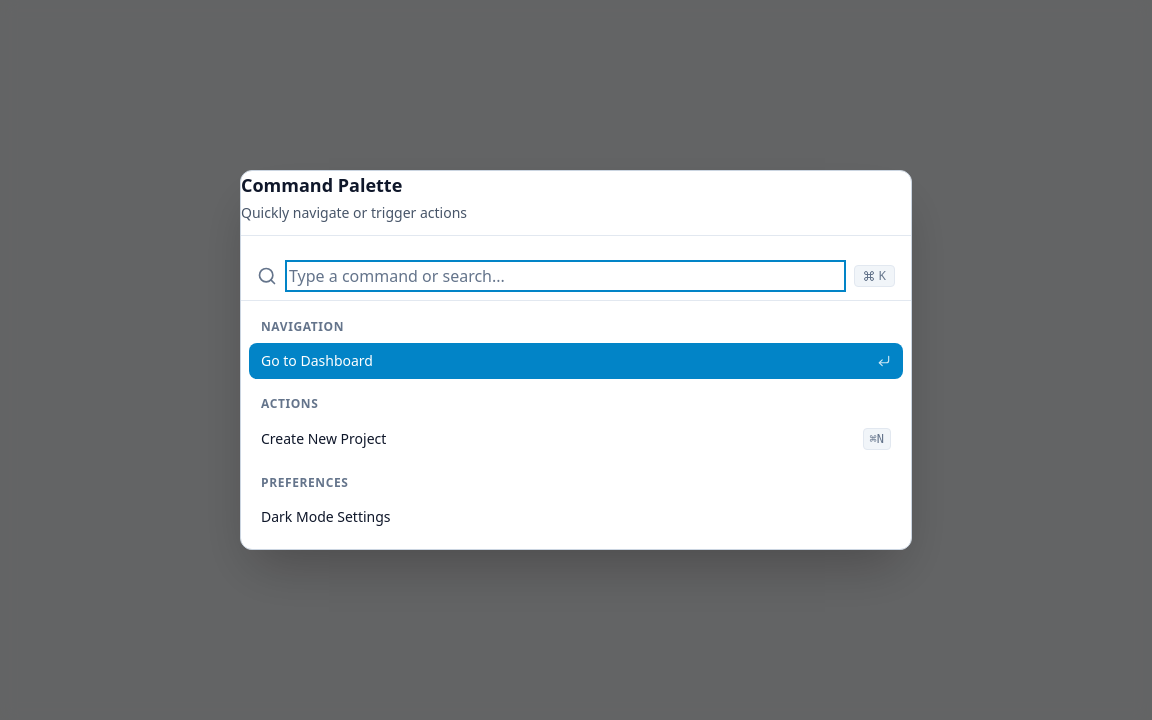
Test: CommandPalette Component › filters items correctly on input
Type "Project" into the dropdown.
click(565, 276); type("Project")  # box [289,264,842,288]
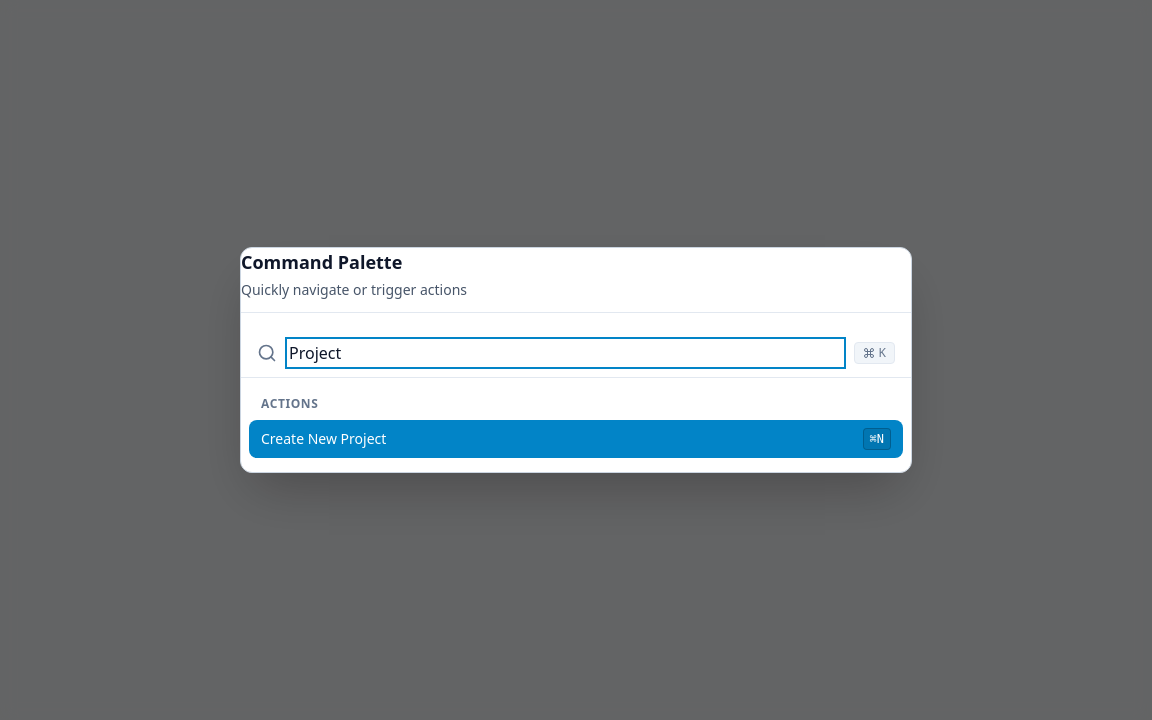
Expected: the option shows "Create New Project", [249,420,903,458]
Expected: the number of options is 1, [249,420,903,458]
